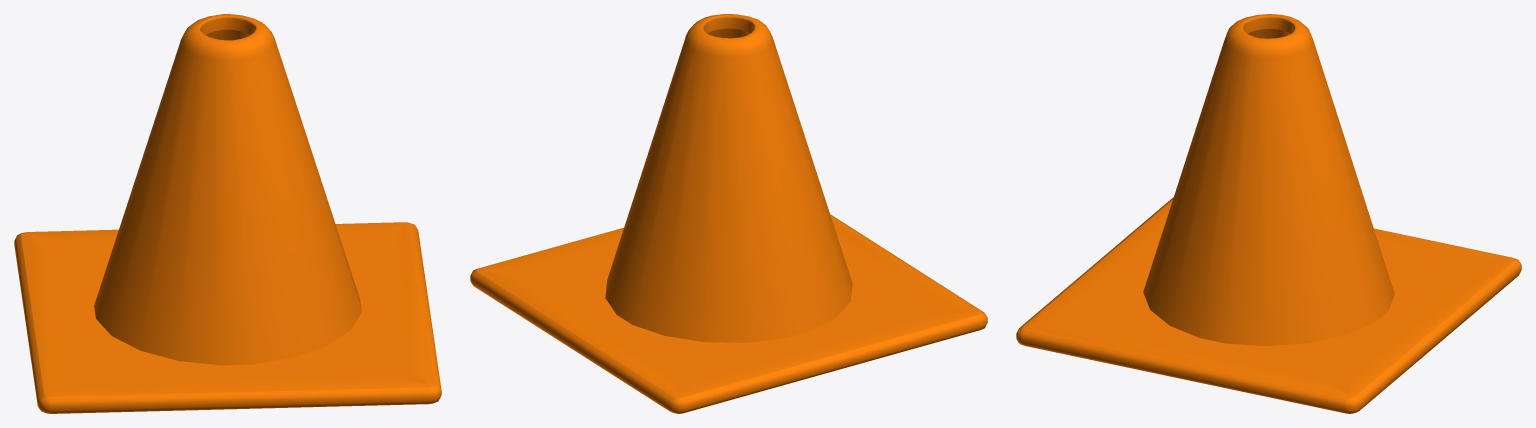
The model's file is Cono.fbx.
The picture shows the model from 3 angles, left to right: view 1: azimuth 30°, elevation 25°; view 2: azimuth 150°, elevation 25°; view 3: azimuth 270°, elevation 25°; orthographic projection. The views are drawn at different scales.
Parts seen in each view (by area): view 1: ChamferBox001; view 2: ChamferBox001; view 3: ChamferBox001.
Part boxes in pixels (x1,y1,x2,y2): ChamferBox001: (14,14,441,413); ChamferBox001: (470,14,987,413); ChamferBox001: (1016,14,1521,413).
Size of the model in its own units: 156 by 96.77 by 156.
